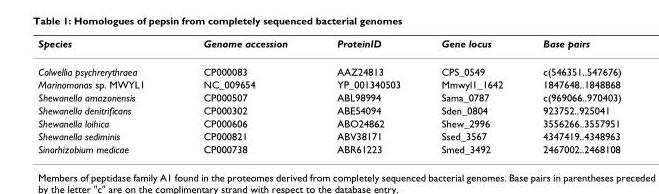table: (37, 37, 620, 154)
table column: (173, 37, 311, 154), (37, 37, 173, 154), (311, 37, 420, 154), (420, 37, 522, 154), (522, 37, 620, 154)
table column header: (37, 37, 620, 57)
table row: (37, 37, 620, 57), (37, 57, 620, 77), (37, 77, 620, 90), (37, 90, 620, 103), (37, 103, 620, 116), (37, 116, 620, 129), (37, 129, 620, 142), (37, 142, 620, 154)
